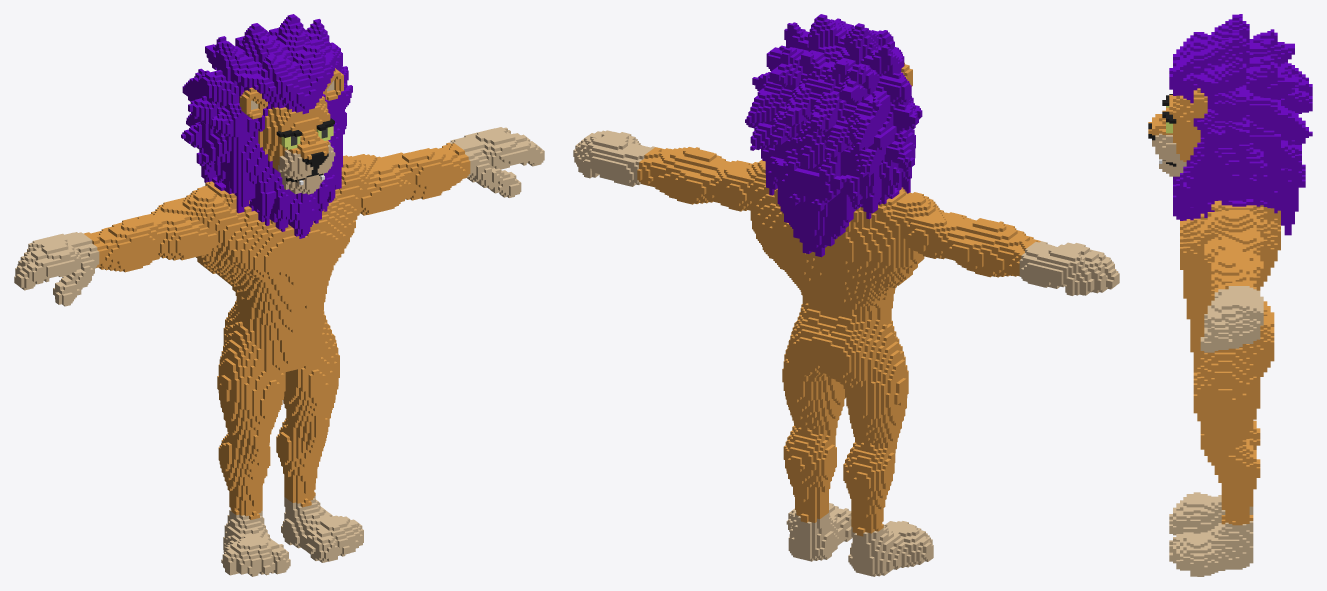
The model's file is 970-CtjXsbzR.glb.
3 views of the same model, side by side, from view 1: azimuth 30°, elevation 25°; view 2: azimuth 150°, elevation 25°; view 3: azimuth 270°, elevation 25° (orthographic). The views are drawn at different scales.
Parts seen in each view (by area): view 1: standard; view 2: standard; view 3: standard.
Boxes of the visible parts, x1,y1,x2,y2 form: standard: (14, 14, 544, 576); standard: (573, 14, 1119, 576); standard: (1148, 14, 1312, 576).
Bounding box in the file's own units: 17.2 × 16.5 × 4.7.
Materials: 4 (4 with a texture image).
